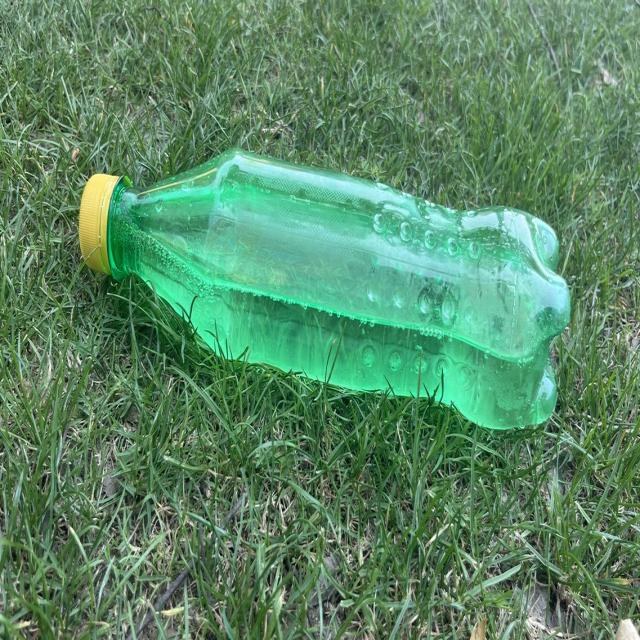medium: (79, 149, 570, 426)
